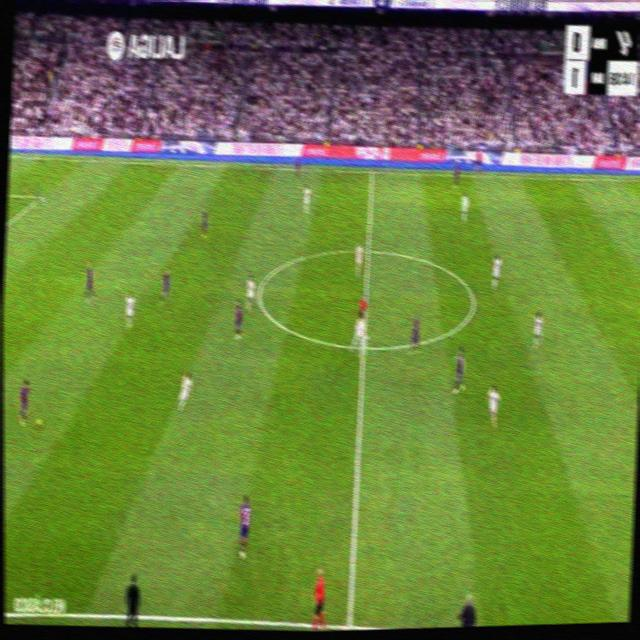bigarea_top_inner: (35, 188, 46, 204)
halfcircle_bottom: (356, 335, 369, 358)
halfcircle_top: (362, 238, 374, 261)
midline_bottom_intersection: (340, 611, 358, 630)
midline_top_intersection: (368, 164, 376, 179)
